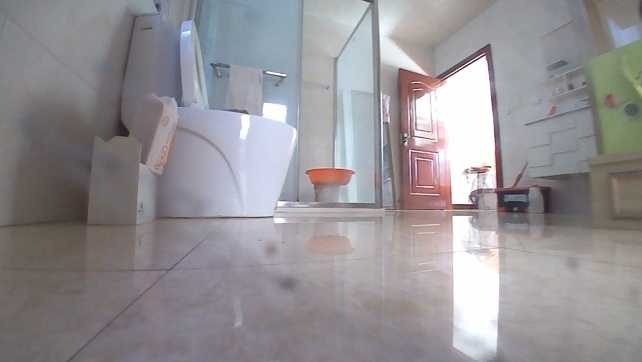door_anno: (397, 66, 451, 210)
toilet: (117, 6, 302, 221)
washstand: (522, 102, 603, 181)
